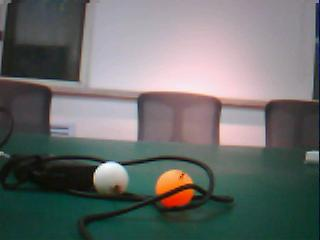oball: (155, 169, 194, 207)
